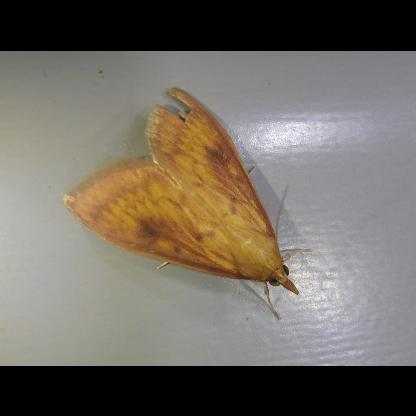Asian Corn Borer Moth: (60, 82, 314, 322)
